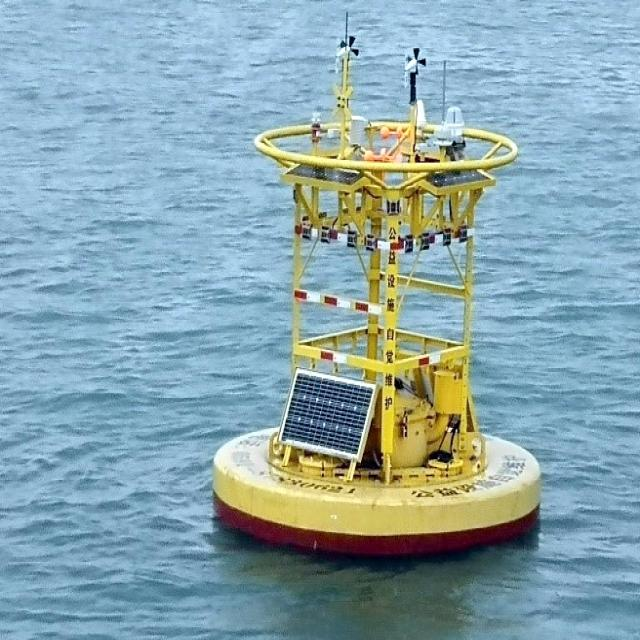buoy: (211, 51, 539, 545)
